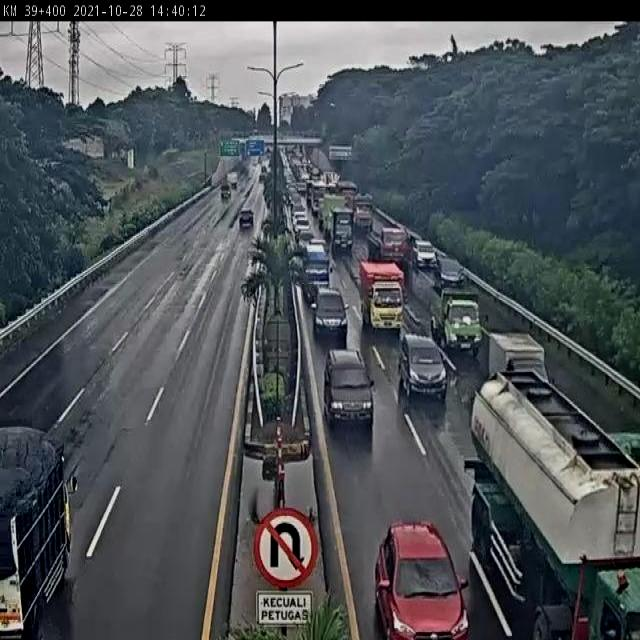Car: (376, 521, 469, 640), (323, 348, 375, 433), (397, 331, 448, 409), (312, 286, 348, 342), (414, 239, 436, 268), (296, 221, 313, 247), (239, 207, 255, 227)
Truck: (469, 372, 640, 640), (0, 418, 83, 639), (426, 283, 488, 361), (358, 260, 406, 333), (367, 223, 409, 268), (328, 206, 356, 254), (351, 192, 376, 231)
